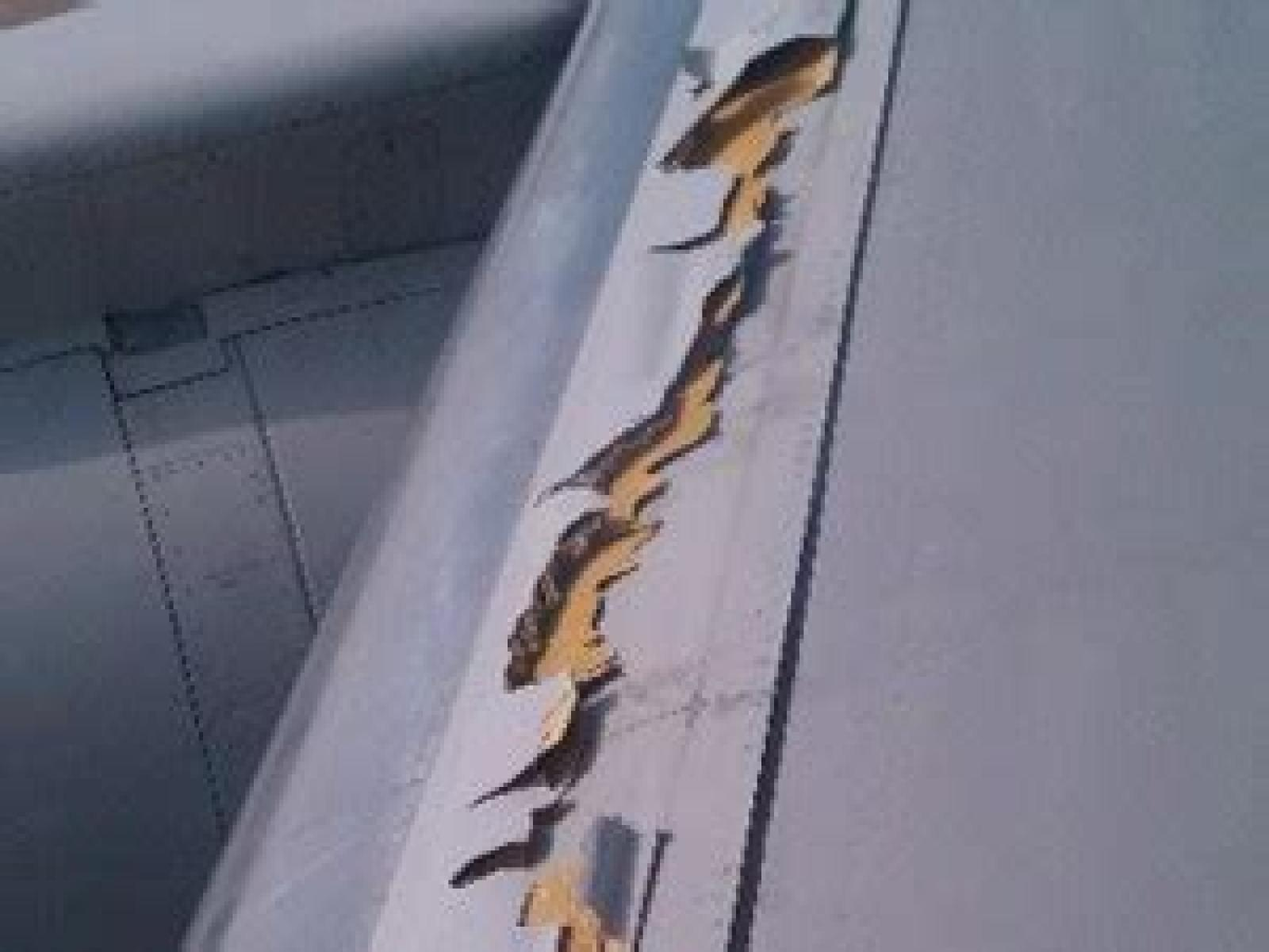Wing_damage: (470, 30, 838, 804), (453, 838, 618, 948)
